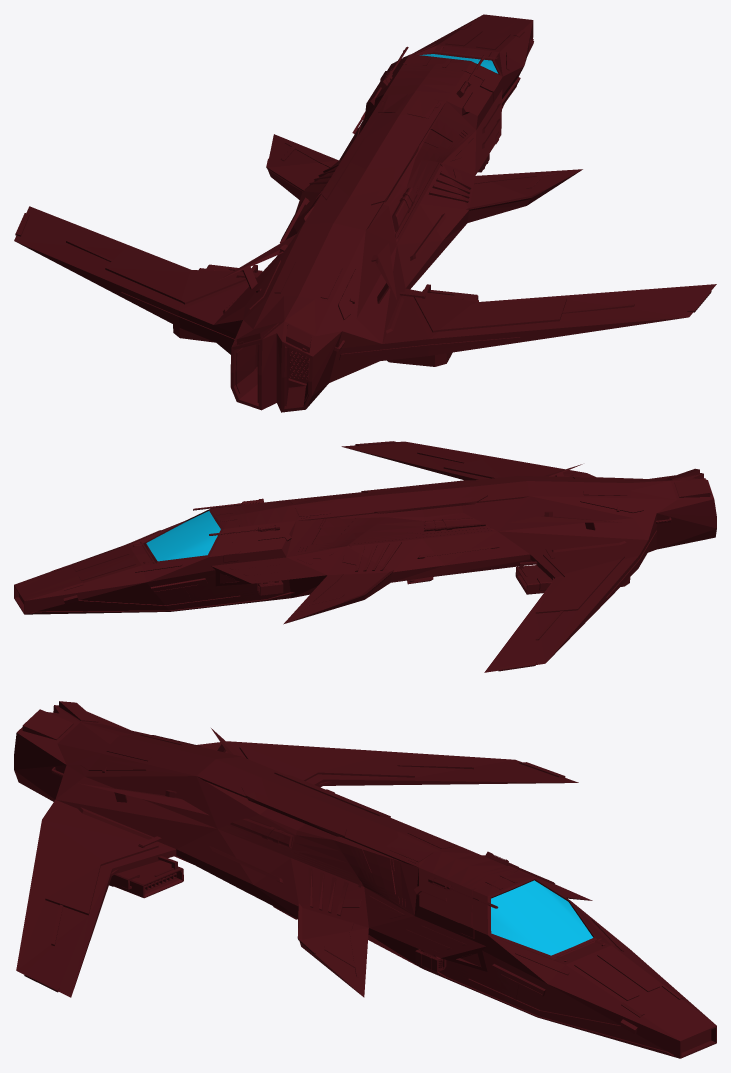
The model's file is fighter_jet.fbx.
3 views of the same model, one above another, from view 1: azimuth 30°, elevation 25°; view 2: azimuth 150°, elevation 25°; view 3: azimuth 270°, elevation 25° (orthographic). The views are drawn at different scales.
Visible parts, largest first — view 1: Plane; view 2: Plane; view 3: Plane.
Part boxes in pixels (x1,y1,x2,y2): Plane: (14,14,716,412); Plane: (14,441,716,672); Plane: (14,701,716,1058).
Bounding box in the file's own units: 1085 × 185 × 1085.
